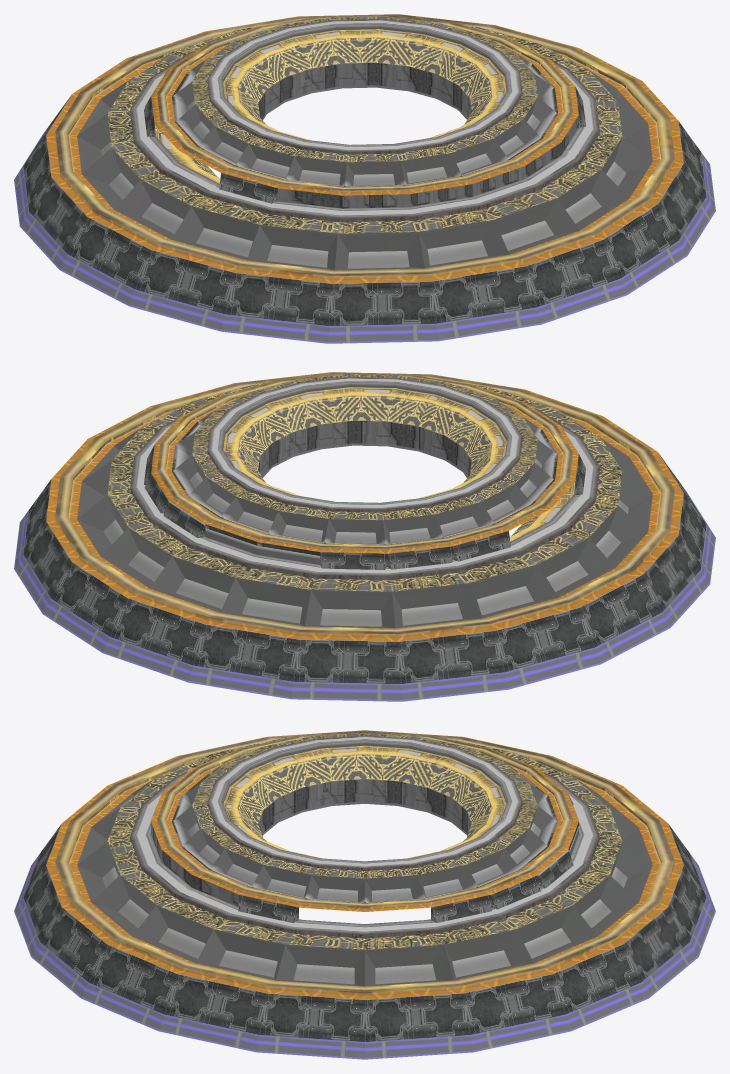
The model's file is top-ring.glb.
3 views of the same model, one above another, from view 1: azimuth 30°, elevation 25°; view 2: azimuth 150°, elevation 25°; view 3: azimuth 270°, elevation 25° (orthographic).
Parts seen in each view (by area): view 1: Top_Ring; view 2: Top_Ring; view 3: Top_Ring.
Boxes of the visible parts, x1=… form: Top_Ring: x1=14, y1=14, x2=715, y2=343; Top_Ring: x1=14, y1=372, x2=715, y2=701; Top_Ring: x1=14, y1=730, x2=715, y2=1059.
Size of the model in its own units: 4.06 by 0.7026 by 4.06.
1 material, 1 textured.
